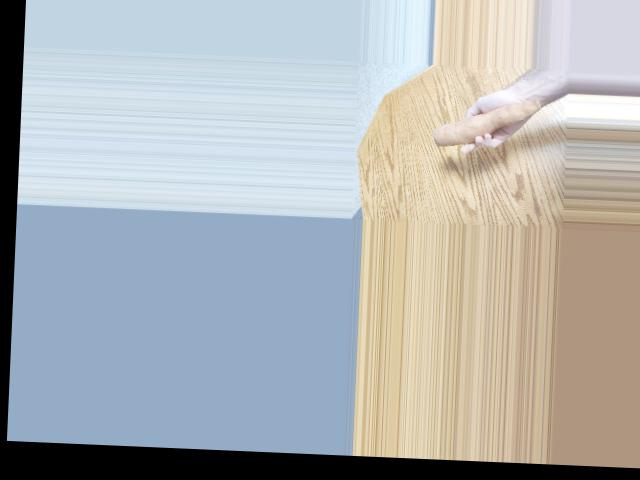sweet_potato: (436, 93, 541, 143)
